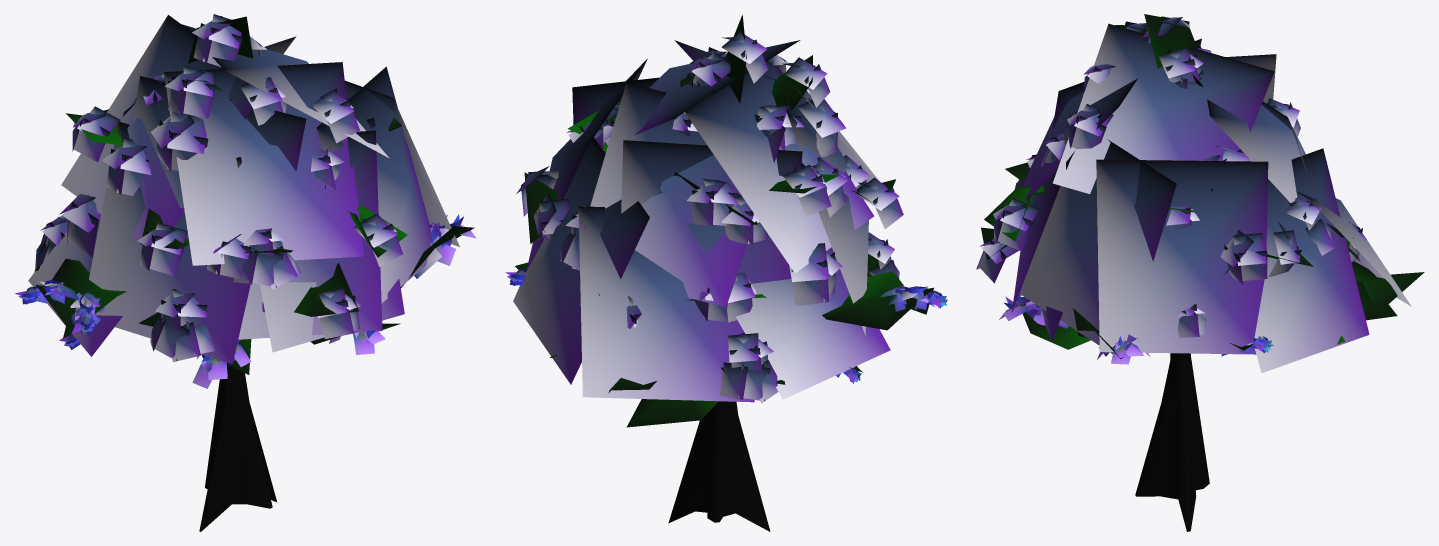
Rendered from tro_tree_2_large.dae.
The picture shows the model from 3 angles, left to right: view 1: azimuth 30°, elevation 25°; view 2: azimuth 150°, elevation 25°; view 3: azimuth 270°, elevation 25°; orthographic projection. The views are drawn at different scales.
Visible parts, largest first — view 1: tro_tree_2_large_001; view 2: tro_tree_2_large_001; view 3: tro_tree_2_large_001.
Part boxes in pixels (x1=…): tro_tree_2_large_001: x1=15, y1=14, x2=476, y2=531; tro_tree_2_large_001: x1=505, y1=14, x2=947, y2=531; tro_tree_2_large_001: x1=976, y1=14, x2=1424, y2=531.
Size of the model in its own units: 18.43 by 17.23 by 20.88.
